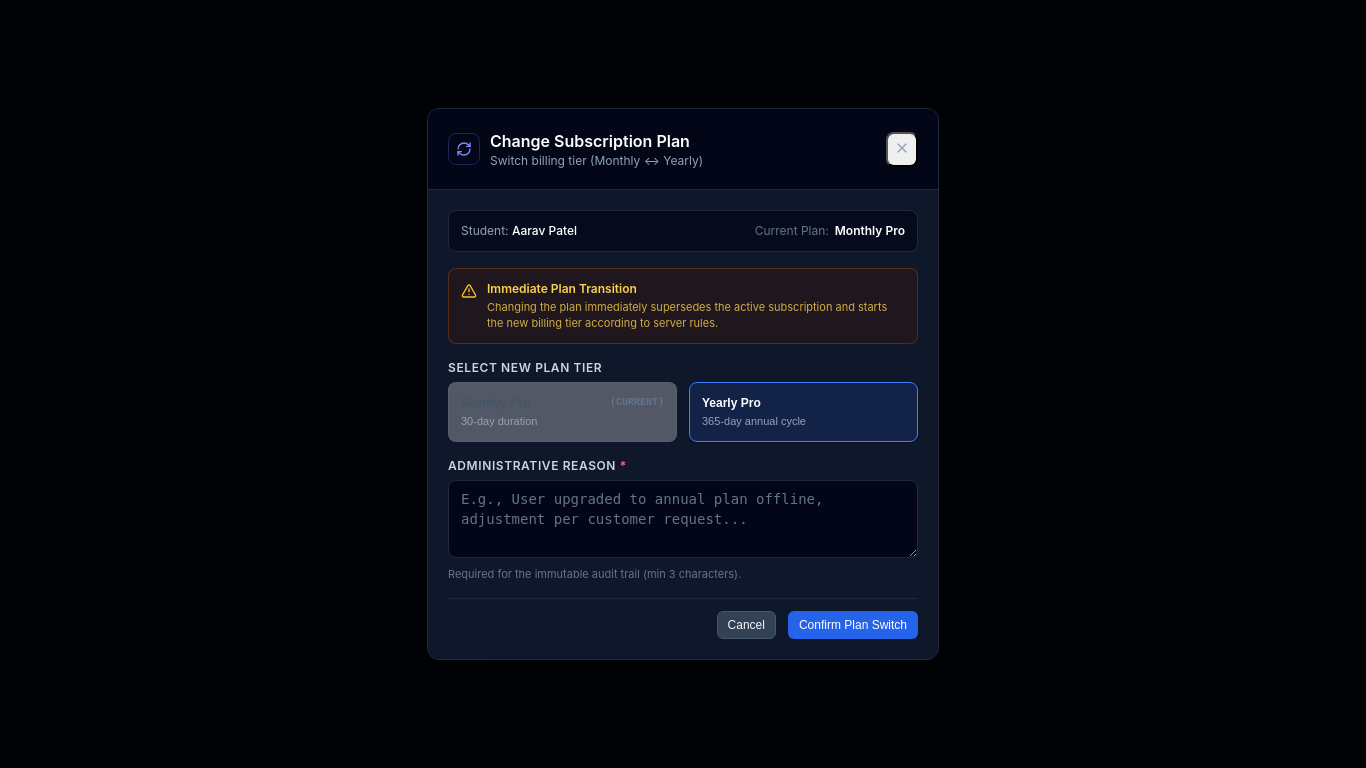
PHASE 6 — Subscription Mutation Modals & Workflows Tests › ChangePlanModal › 7. handles 404 Not Found error safely
The width and height of the screenshot is (1366, 768).
Replace the text in the text box labelled "Administrative Reason *" with "Upgrading plan" at (683, 519), box [448,480,918,558]
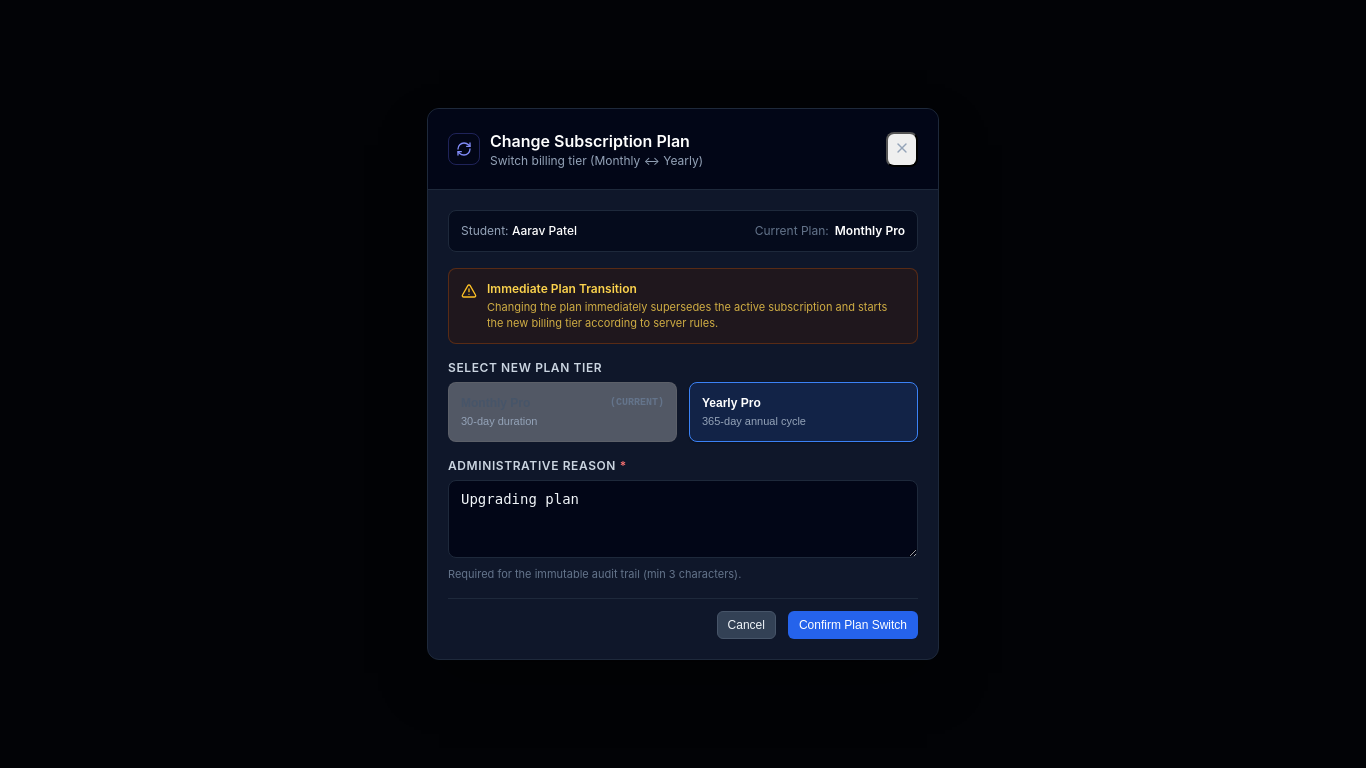
Click the button "Confirm Plan Switch" at (853, 625), box [788,611,918,639]
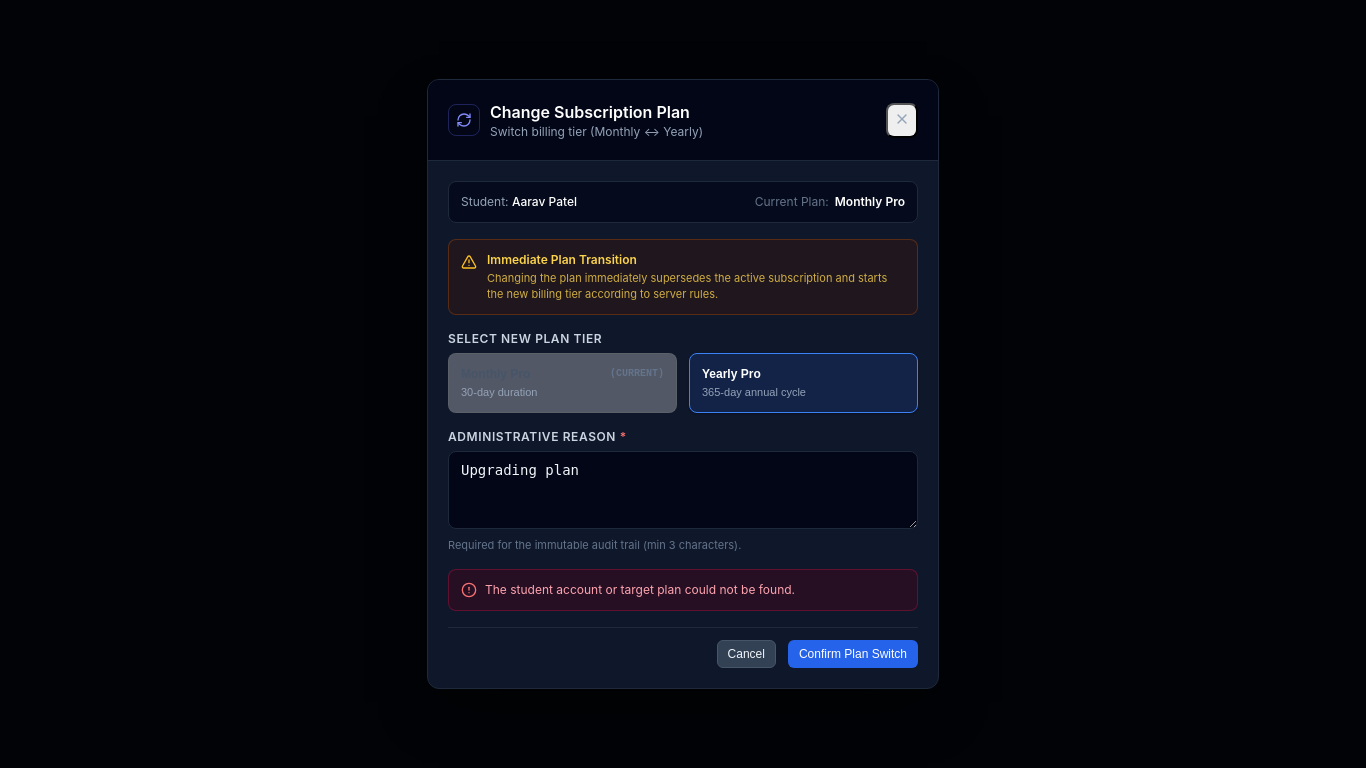
Check: the text "The student account or target plan could not be found." is shown, box [485,582,795,598]
